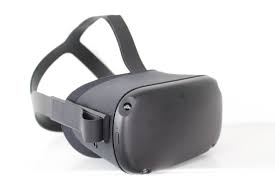oculus: (59, 67, 227, 176)
